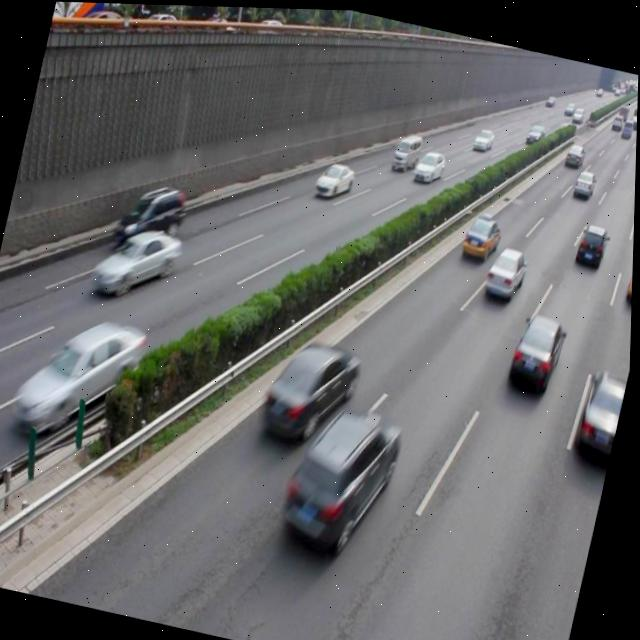car: (8, 302, 150, 458), (276, 395, 406, 560), (258, 329, 364, 449), (90, 216, 185, 307), (114, 174, 191, 254), (571, 362, 631, 463), (505, 306, 568, 391), (482, 239, 530, 302), (460, 207, 504, 262), (312, 156, 357, 202), (573, 217, 609, 267), (623, 248, 635, 300)
